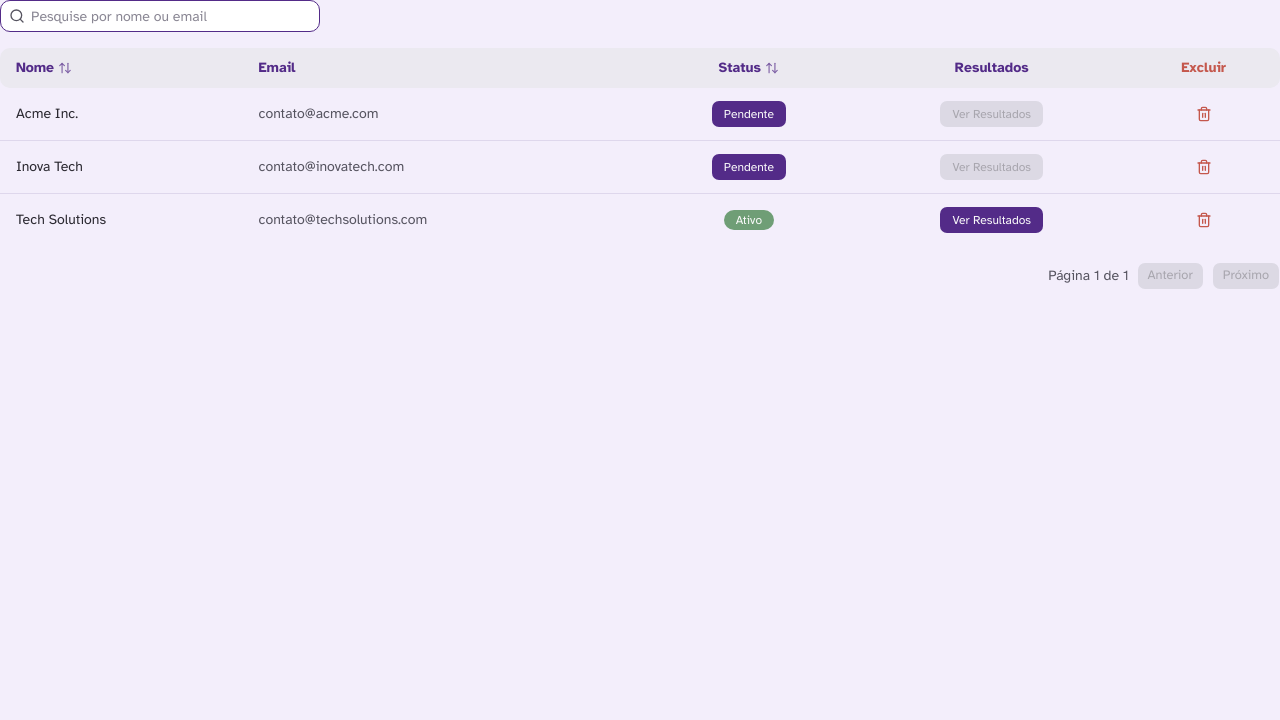
Scenario: CompanyTable › abre o modal de aceite ao clicar no botão Pendente
What coordinates should you click on to do the following:
click the button with aria-label "Pendente: analisar o cadastro de Acme Inc."
I would click on:
 (749, 114)
Its box is [711, 100, 787, 128].
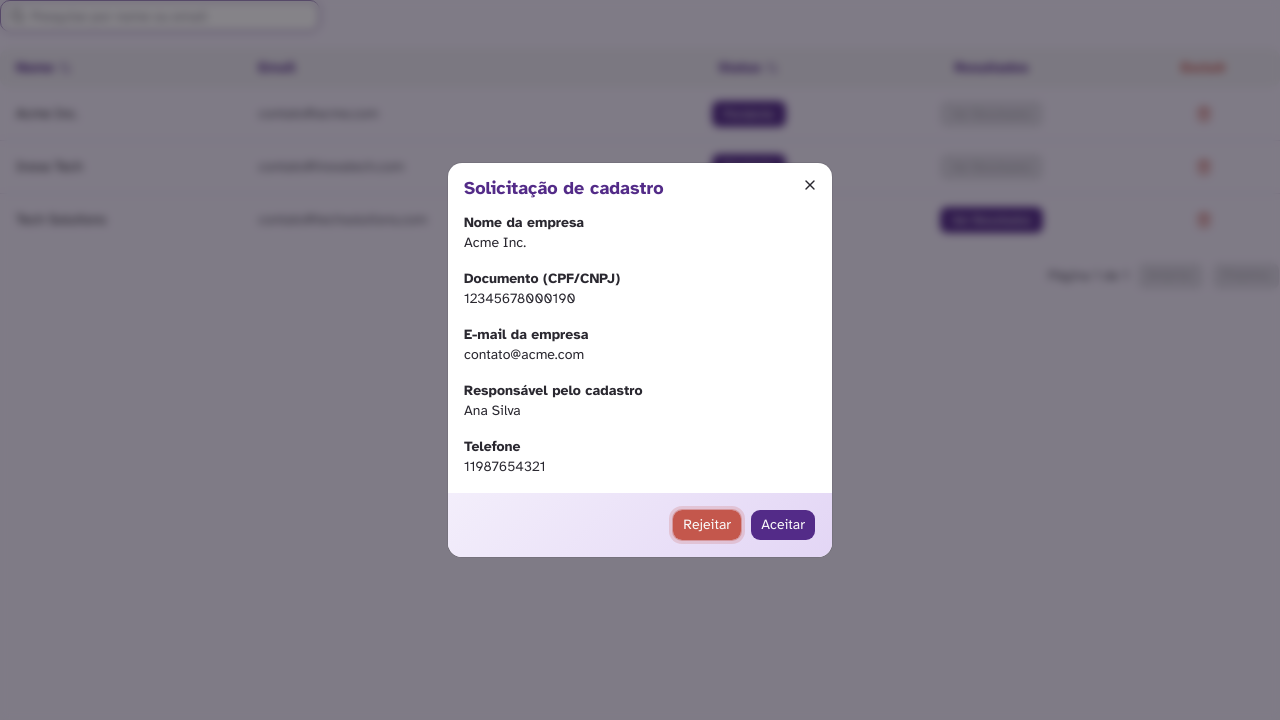
expect the heading "Solicitação de cadastro" is shown: met, box [464, 177, 664, 199]
expect the dialog "Solicitação de cadastro" is shown: met, box [448, 163, 832, 557]
expect the text "Acme Inc." is shown: met, box [464, 234, 526, 251]
